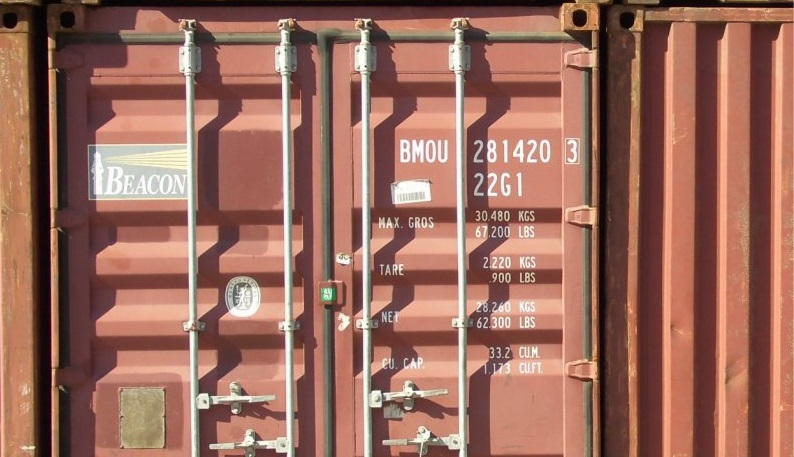container_door: (39, 1, 587, 455)
